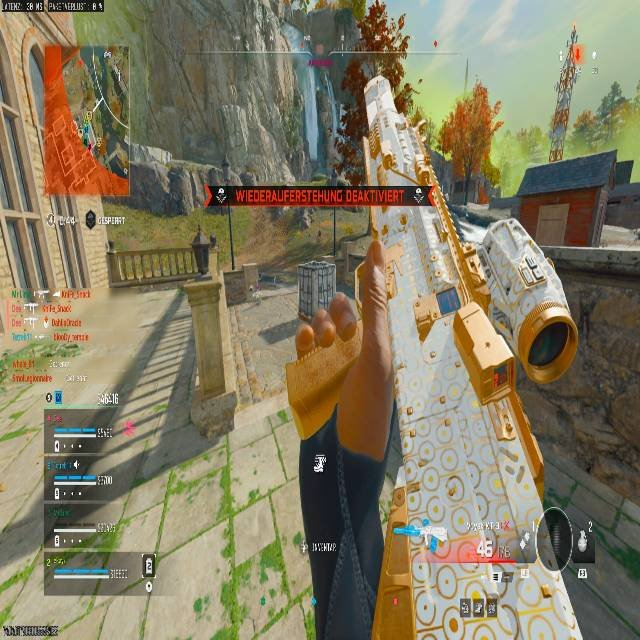head: (365, 0, 385, 24)
player: (351, 4, 412, 119)
